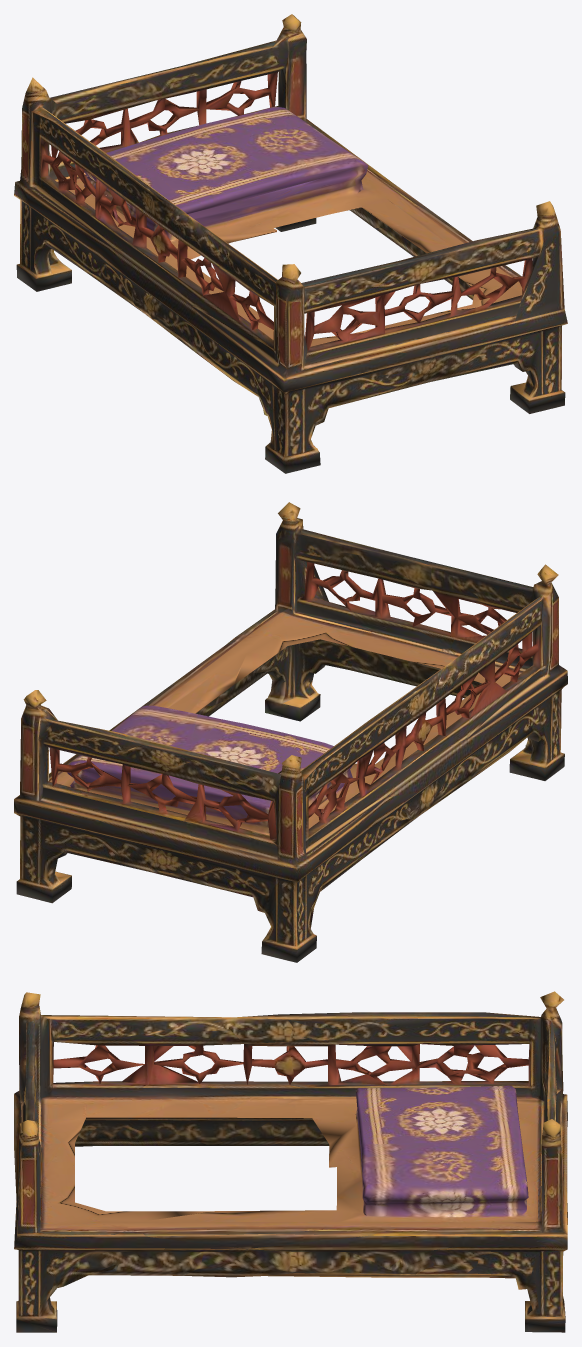
The model's file is bed.glb.
3 views of the same model, one above another, from view 1: azimuth 30°, elevation 25°; view 2: azimuth 150°, elevation 25°; view 3: azimuth 270°, elevation 25° (orthographic). The views are drawn at different scales.
Visible parts, largest first — view 1: kusuriuri; view 2: kusuriuri; view 3: kusuriuri.
Part boxes in pixels (bbox=[...]): kusuriuri: bbox=[14, 14, 567, 473]; kusuriuri: bbox=[14, 502, 567, 962]; kusuriuri: bbox=[14, 991, 567, 1332].
Size of the model in its own units: 1.03 by 0.7 by 1.69.
Materials: 1 (1 with a texture image).
